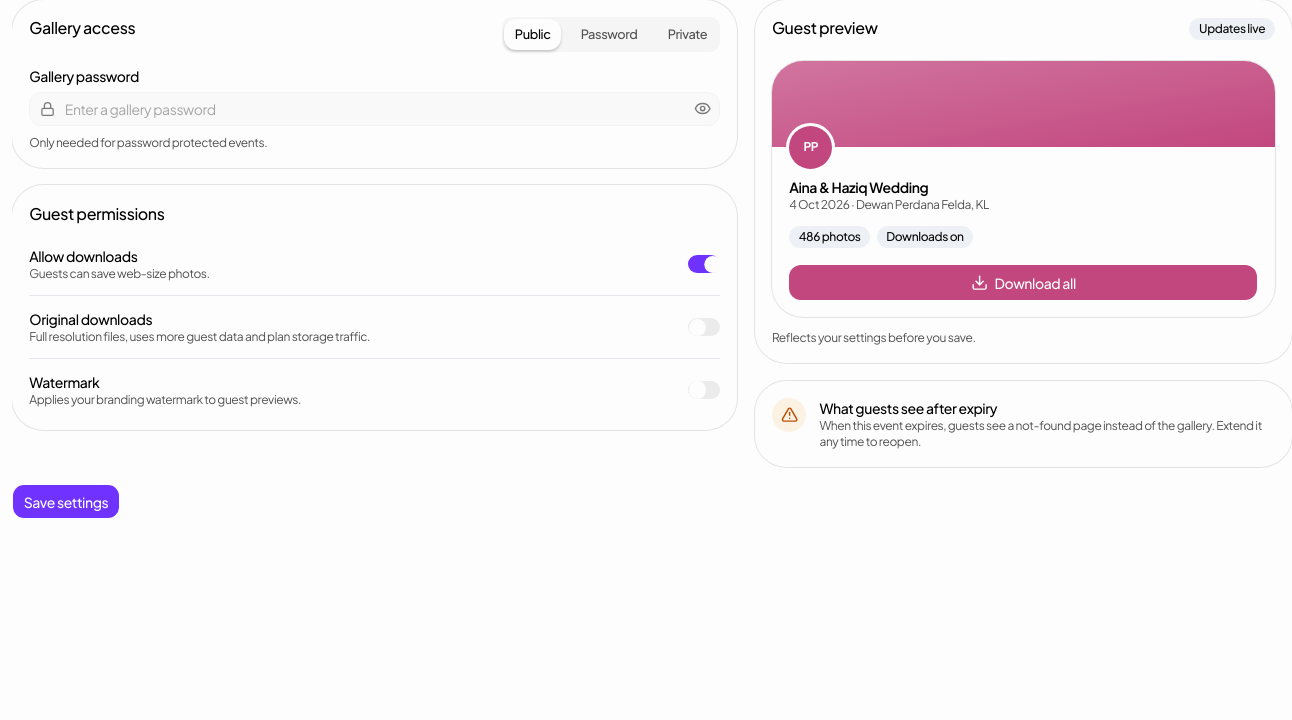
Scenario: EventSettingsForm › reflects the download switches in the guest preview
expect the text "Download all" is shown: met, box [789, 265, 1258, 300]
expect the text "Downloads on" is shown: met, box [877, 226, 973, 248]
Step 1. Click the switch named "Allow downloads" in the row of "Guests can save web-size photos." → click(704, 264), box [688, 255, 720, 273]
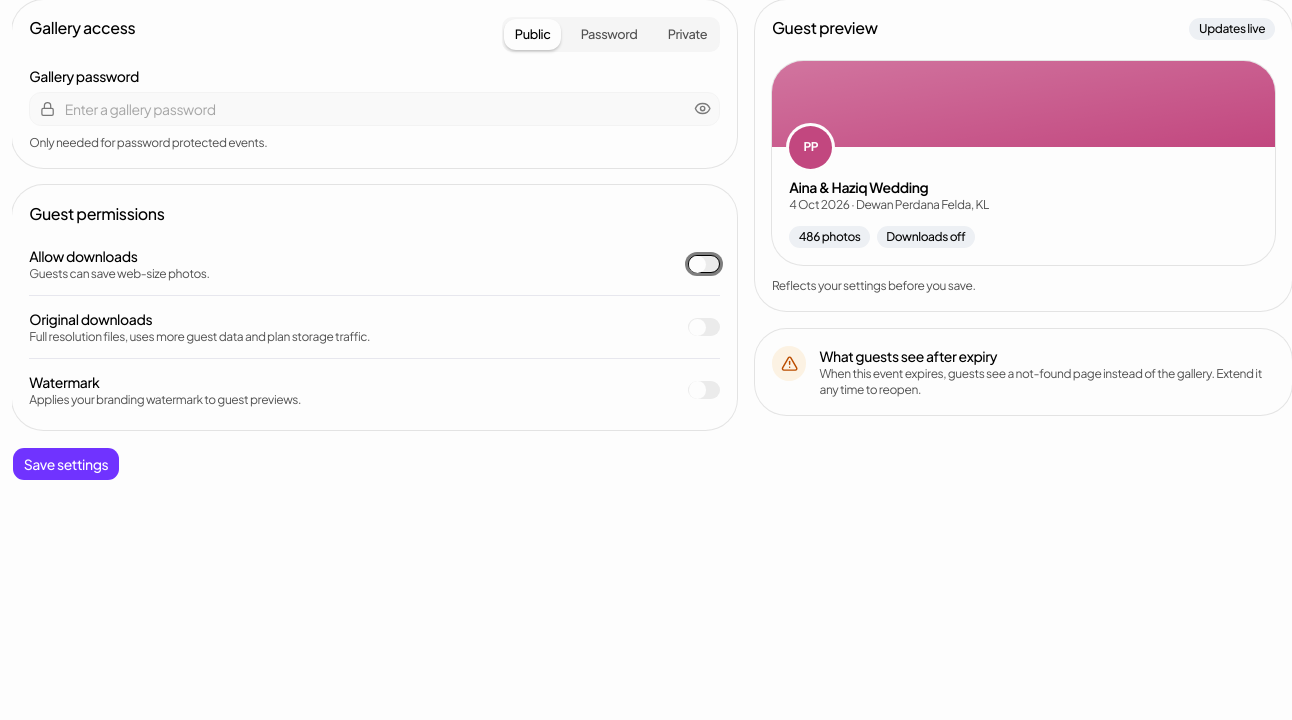
expect the text "Download all" is gone: met
expect the text "Downloads off" is shown: met, box [877, 226, 975, 248]
